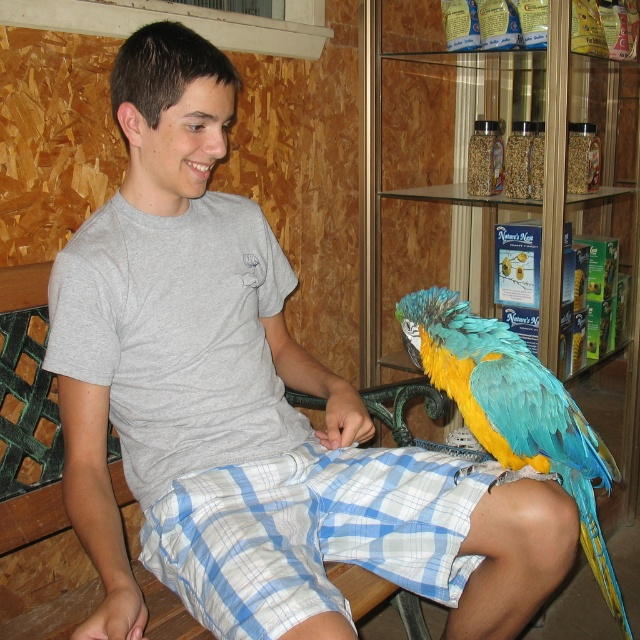Parrot: (397, 280, 636, 640)
